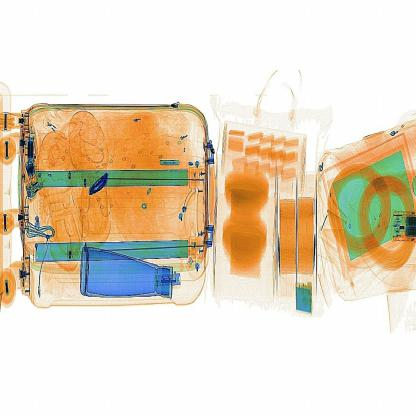knife: (82, 172, 111, 197)
